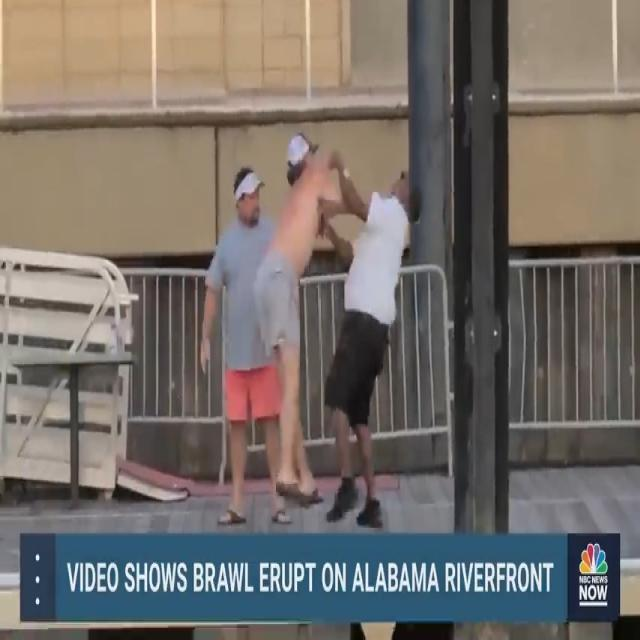fight: (187, 117, 429, 525)
